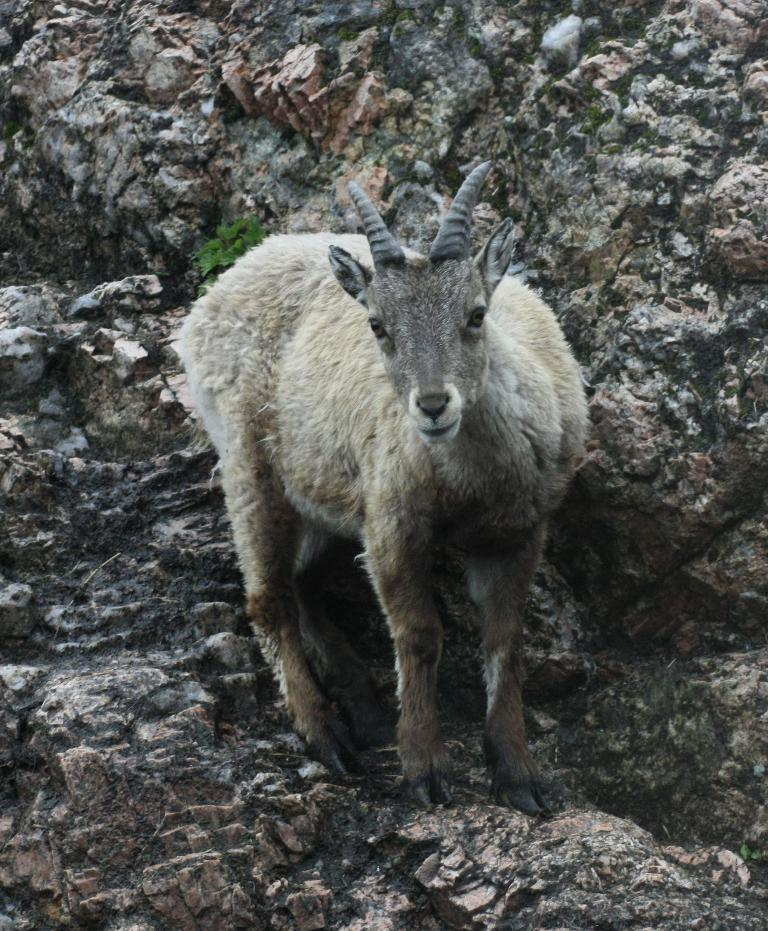sheep: (178, 159, 589, 817)
